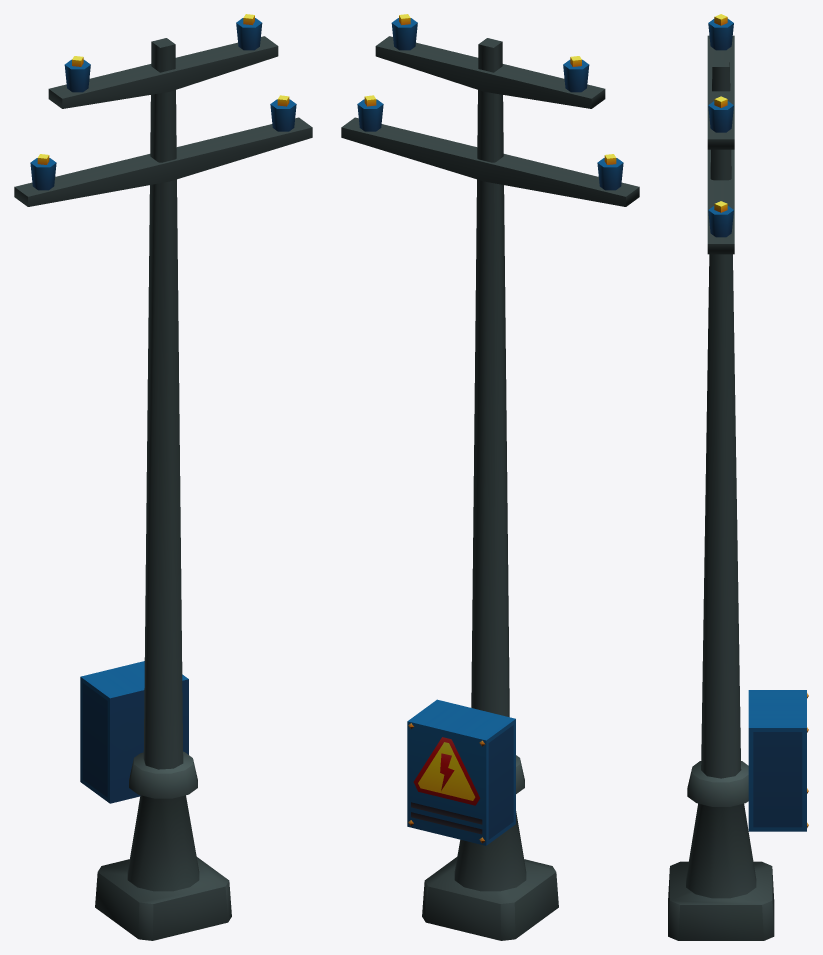
File: Electric_Pole_1B.fbx
3 views of the same model, side by side, from view 1: azimuth 30°, elevation 25°; view 2: azimuth 150°, elevation 25°; view 3: azimuth 270°, elevation 25° (orthographic).
Visible parts, largest first — view 1: Electric_Pole_1B; view 2: Electric_Pole_1B; view 3: Electric_Pole_1B.
Part boxes in pixels (x1,y1,x2,y2): Electric_Pole_1B: (14, 14, 312, 940); Electric_Pole_1B: (341, 14, 639, 940); Electric_Pole_1B: (668, 14, 808, 940).
Size of the model in its own units: 3.32 by 9.75 by 1.45.
